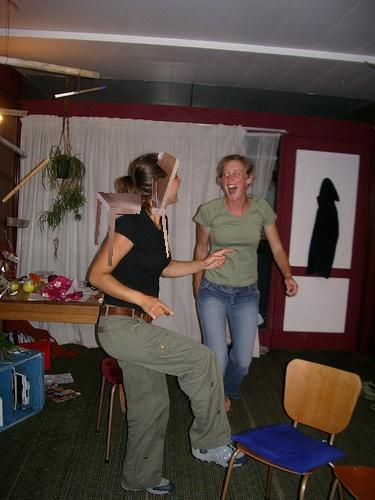tampered: (95, 152, 179, 266)
